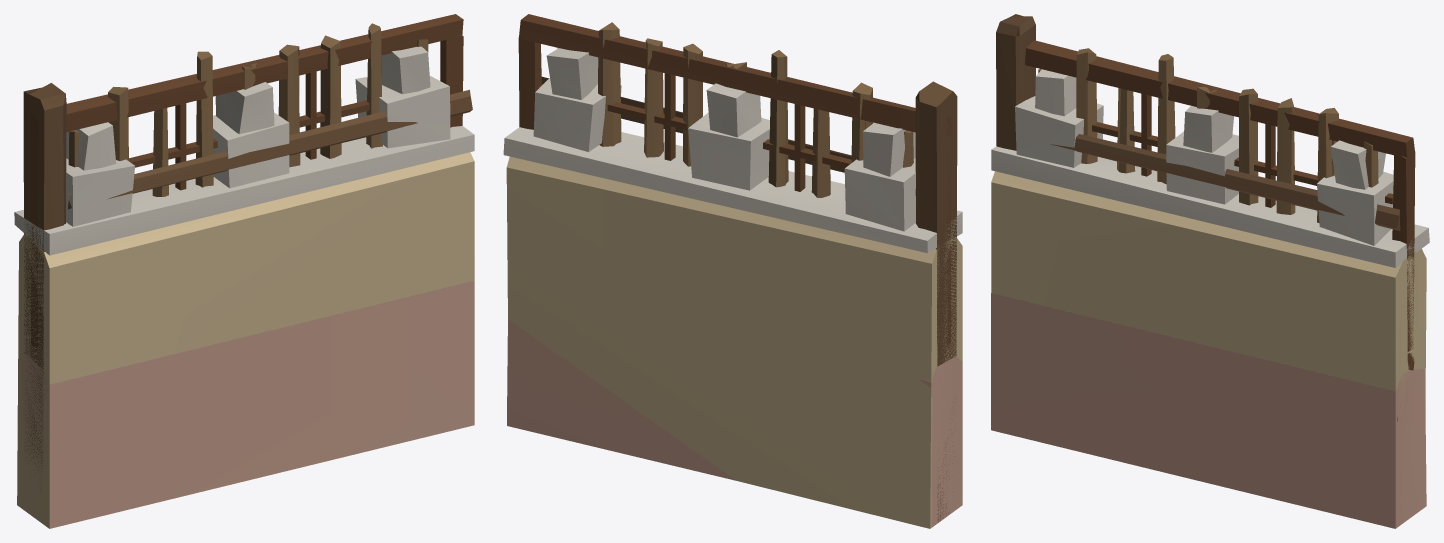
Rendered from fence.glb.
3 renders of one model, left to right at view 1: azimuth 30°, elevation 25°; view 2: azimuth 150°, elevation 25°; view 3: azimuth 330°, elevation 25°, orthographic. The views are drawn at different scales.
Visible parts, largest first — view 1: fence.v0.mesh, fence.v1.mesh, fence.v2.mesh; view 2: fence.v0.mesh, fence.v1.mesh, fence.v2.mesh; view 3: fence.v0.mesh, fence.v1.mesh, fence.v2.mesh.
Boxes of the visible parts, x1,y1,x2,y2 form: fence.v0.mesh: [14, 46, 474, 528]; fence.v1.mesh: [18, 14, 474, 528]; fence.v2.mesh: [23, 23, 472, 488]; fence.v0.mesh: [503, 48, 962, 528]; fence.v1.mesh: [507, 14, 962, 527]; fence.v2.mesh: [541, 22, 957, 522]; fence.v0.mesh: [991, 69, 1429, 412]; fence.v1.mesh: [991, 40, 1426, 528]; fence.v2.mesh: [996, 14, 1400, 421].
Size of the model in its own units: 1 by 0.9567 by 0.1469.
